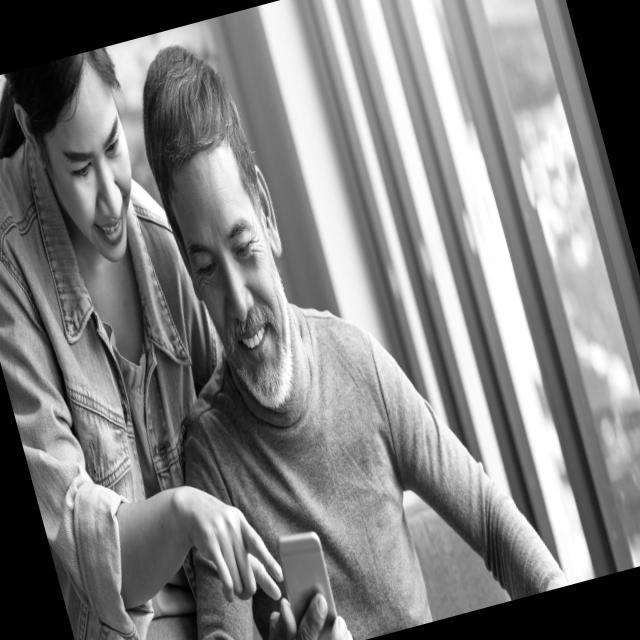phone: (272, 526, 348, 640)
